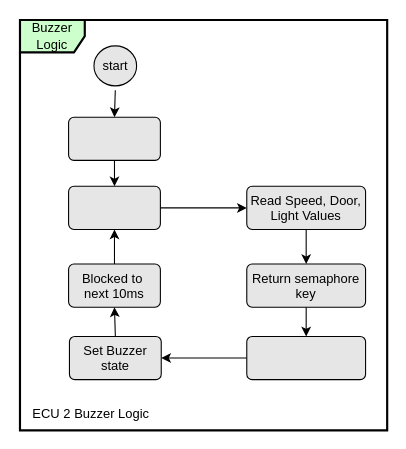
The diagram is 406 pixels wide and 449 high, and some of its shapes have lost their labels. The centre of each missing label's shape, as x and y in pixels:
Configure Buzzer pin: the point at 114,138
Perform Buzzer logic: the point at 306,357
Request semaphore key: the point at 114,207
